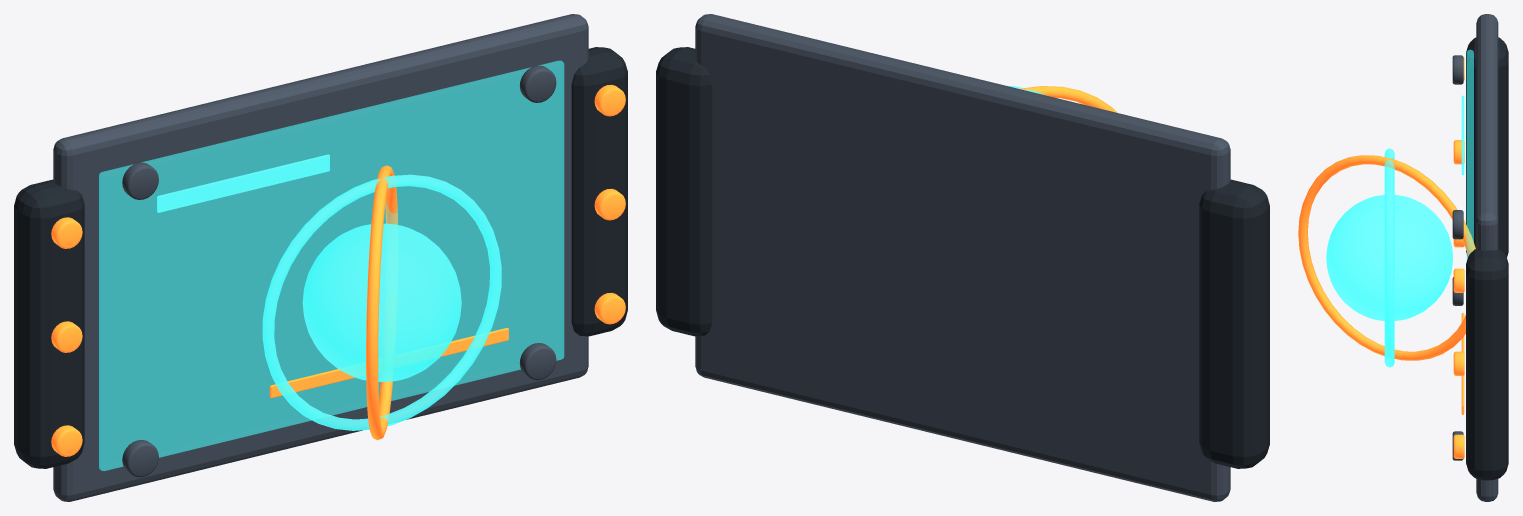
File: hologram_tablet.glb
3 renders of one model, left to right at view 1: azimuth 30°, elevation 25°; view 2: azimuth 150°, elevation 25°; view 3: azimuth 270°, elevation 25°, orthographic. The views are drawn at different scales.
Visible parts, largest first — view 1: Tablet_Backplate, Tablet_HoloScreen, Tablet_HologramCore, Tablet_LeftGrip, Tablet_RightGrip, Tablet_HologramOrbitA, Tablet_HologramOrbitB, Tablet_UI_Header, Tablet_UI_DataBar, Tablet_CornerFastener_3, Tablet_CornerFastener_1, Tablet_CornerFastener_4 (+7 smaller); view 2: Tablet_Backplate, Tablet_LeftGrip, Tablet_RightGrip, Tablet_HologramOrbitB; view 3: Tablet_HologramCore, Tablet_RightGrip, Tablet_Backplate, Tablet_HologramOrbitB, Tablet_LeftGrip, Tablet_HologramOrbitA, Tablet_HoloScreen, Tablet_CornerFastener_3, Tablet_CornerFastener_4, Tablet_UI_Header, Tablet_RightButton_1, Tablet_RightButton_2 (+1 smaller).
Part boxes in pixels (x1=…): Tablet_Backplate: x1=53, y1=14, x2=588, y2=501; Tablet_HoloScreen: x1=99, y1=60, x2=564, y2=470; Tablet_HologramCore: x1=302, y1=223, x2=461, y2=381; Tablet_LeftGrip: x1=14, y1=179, x2=84, y2=468; Tablet_RightGrip: x1=571, y1=47, x2=627, y2=336; Tablet_HologramOrbitA: x1=262, y1=174, x2=501, y2=430; Tablet_HologramOrbitB: x1=366, y1=165, x2=397, y2=440; Tablet_UI_Header: x1=157, y1=154, x2=329, y2=212; Tablet_UI_DataBar: x1=269, y1=328, x2=508, y2=398; Tablet_CornerFastener_3: x1=122, y1=162, x2=158, y2=199; Tablet_CornerFastener_1: x1=122, y1=440, x2=158, y2=477; Tablet_CornerFastener_4: x1=519, y1=65, x2=556, y2=102; Tablet_Backplate: x1=695, y1=14, x2=1230, y2=501; Tablet_LeftGrip: x1=1199, y1=179, x2=1269, y2=468; Tablet_RightGrip: x1=656, y1=47, x2=712, y2=336; Tablet_HologramOrbitB: x1=1020, y1=86, x2=1117, y2=112; Tablet_HologramCore: x1=1326, y1=195, x2=1452, y2=320; Tablet_RightGrip: x1=1466, y1=249, x2=1508, y2=480; Tablet_Backplate: x1=1476, y1=14, x2=1498, y2=501; Tablet_HologramOrbitB: x1=1298, y1=155, x2=1475, y2=360; Tablet_LeftGrip: x1=1466, y1=37, x2=1508, y2=257; Tablet_HologramOrbitA: x1=1384, y1=148, x2=1394, y2=367; Tablet_HoloScreen: x1=1466, y1=49, x2=1473, y2=260; Tablet_CornerFastener_3: x1=1452, y1=55, x2=1463, y2=84; Tablet_CornerFastener_4: x1=1452, y1=210, x2=1463, y2=239; Tablet_UI_Header: x1=1461, y1=95, x2=1464, y2=175; Tablet_RightButton_1: x1=1453, y1=434, x2=1464, y2=458; Tablet_RightButton_2: x1=1453, y1=351, x2=1464, y2=375.
Size of the model in its own units: 0.455 by 0.26 by 0.1724.
